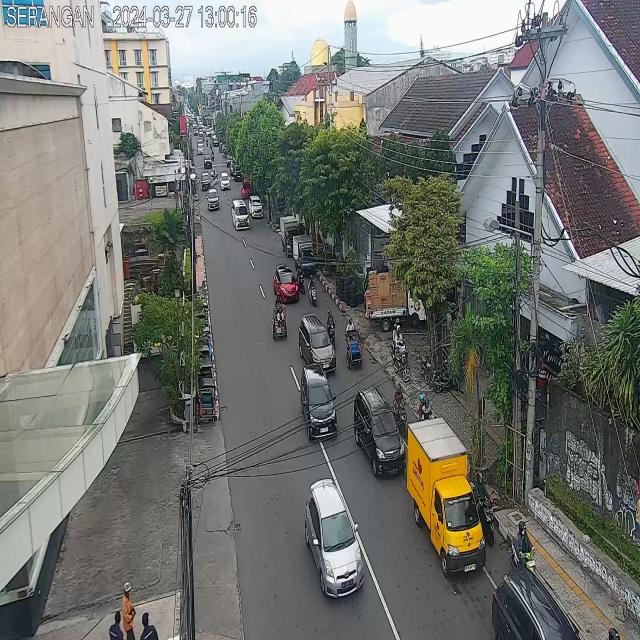car: (304, 477, 364, 600), (491, 565, 580, 640), (354, 383, 405, 476), (301, 363, 338, 441), (299, 313, 337, 374), (273, 264, 299, 302), (232, 200, 250, 230), (250, 195, 264, 218), (208, 188, 219, 210), (201, 173, 211, 190), (242, 182, 252, 199), (221, 172, 230, 190)
motorcycle: (469, 471, 496, 549), (506, 518, 536, 576), (392, 384, 408, 436), (418, 393, 435, 425), (326, 305, 337, 349), (308, 274, 318, 309), (296, 262, 306, 294)
truck: (408, 415, 486, 579), (293, 235, 316, 275), (280, 216, 298, 256)
